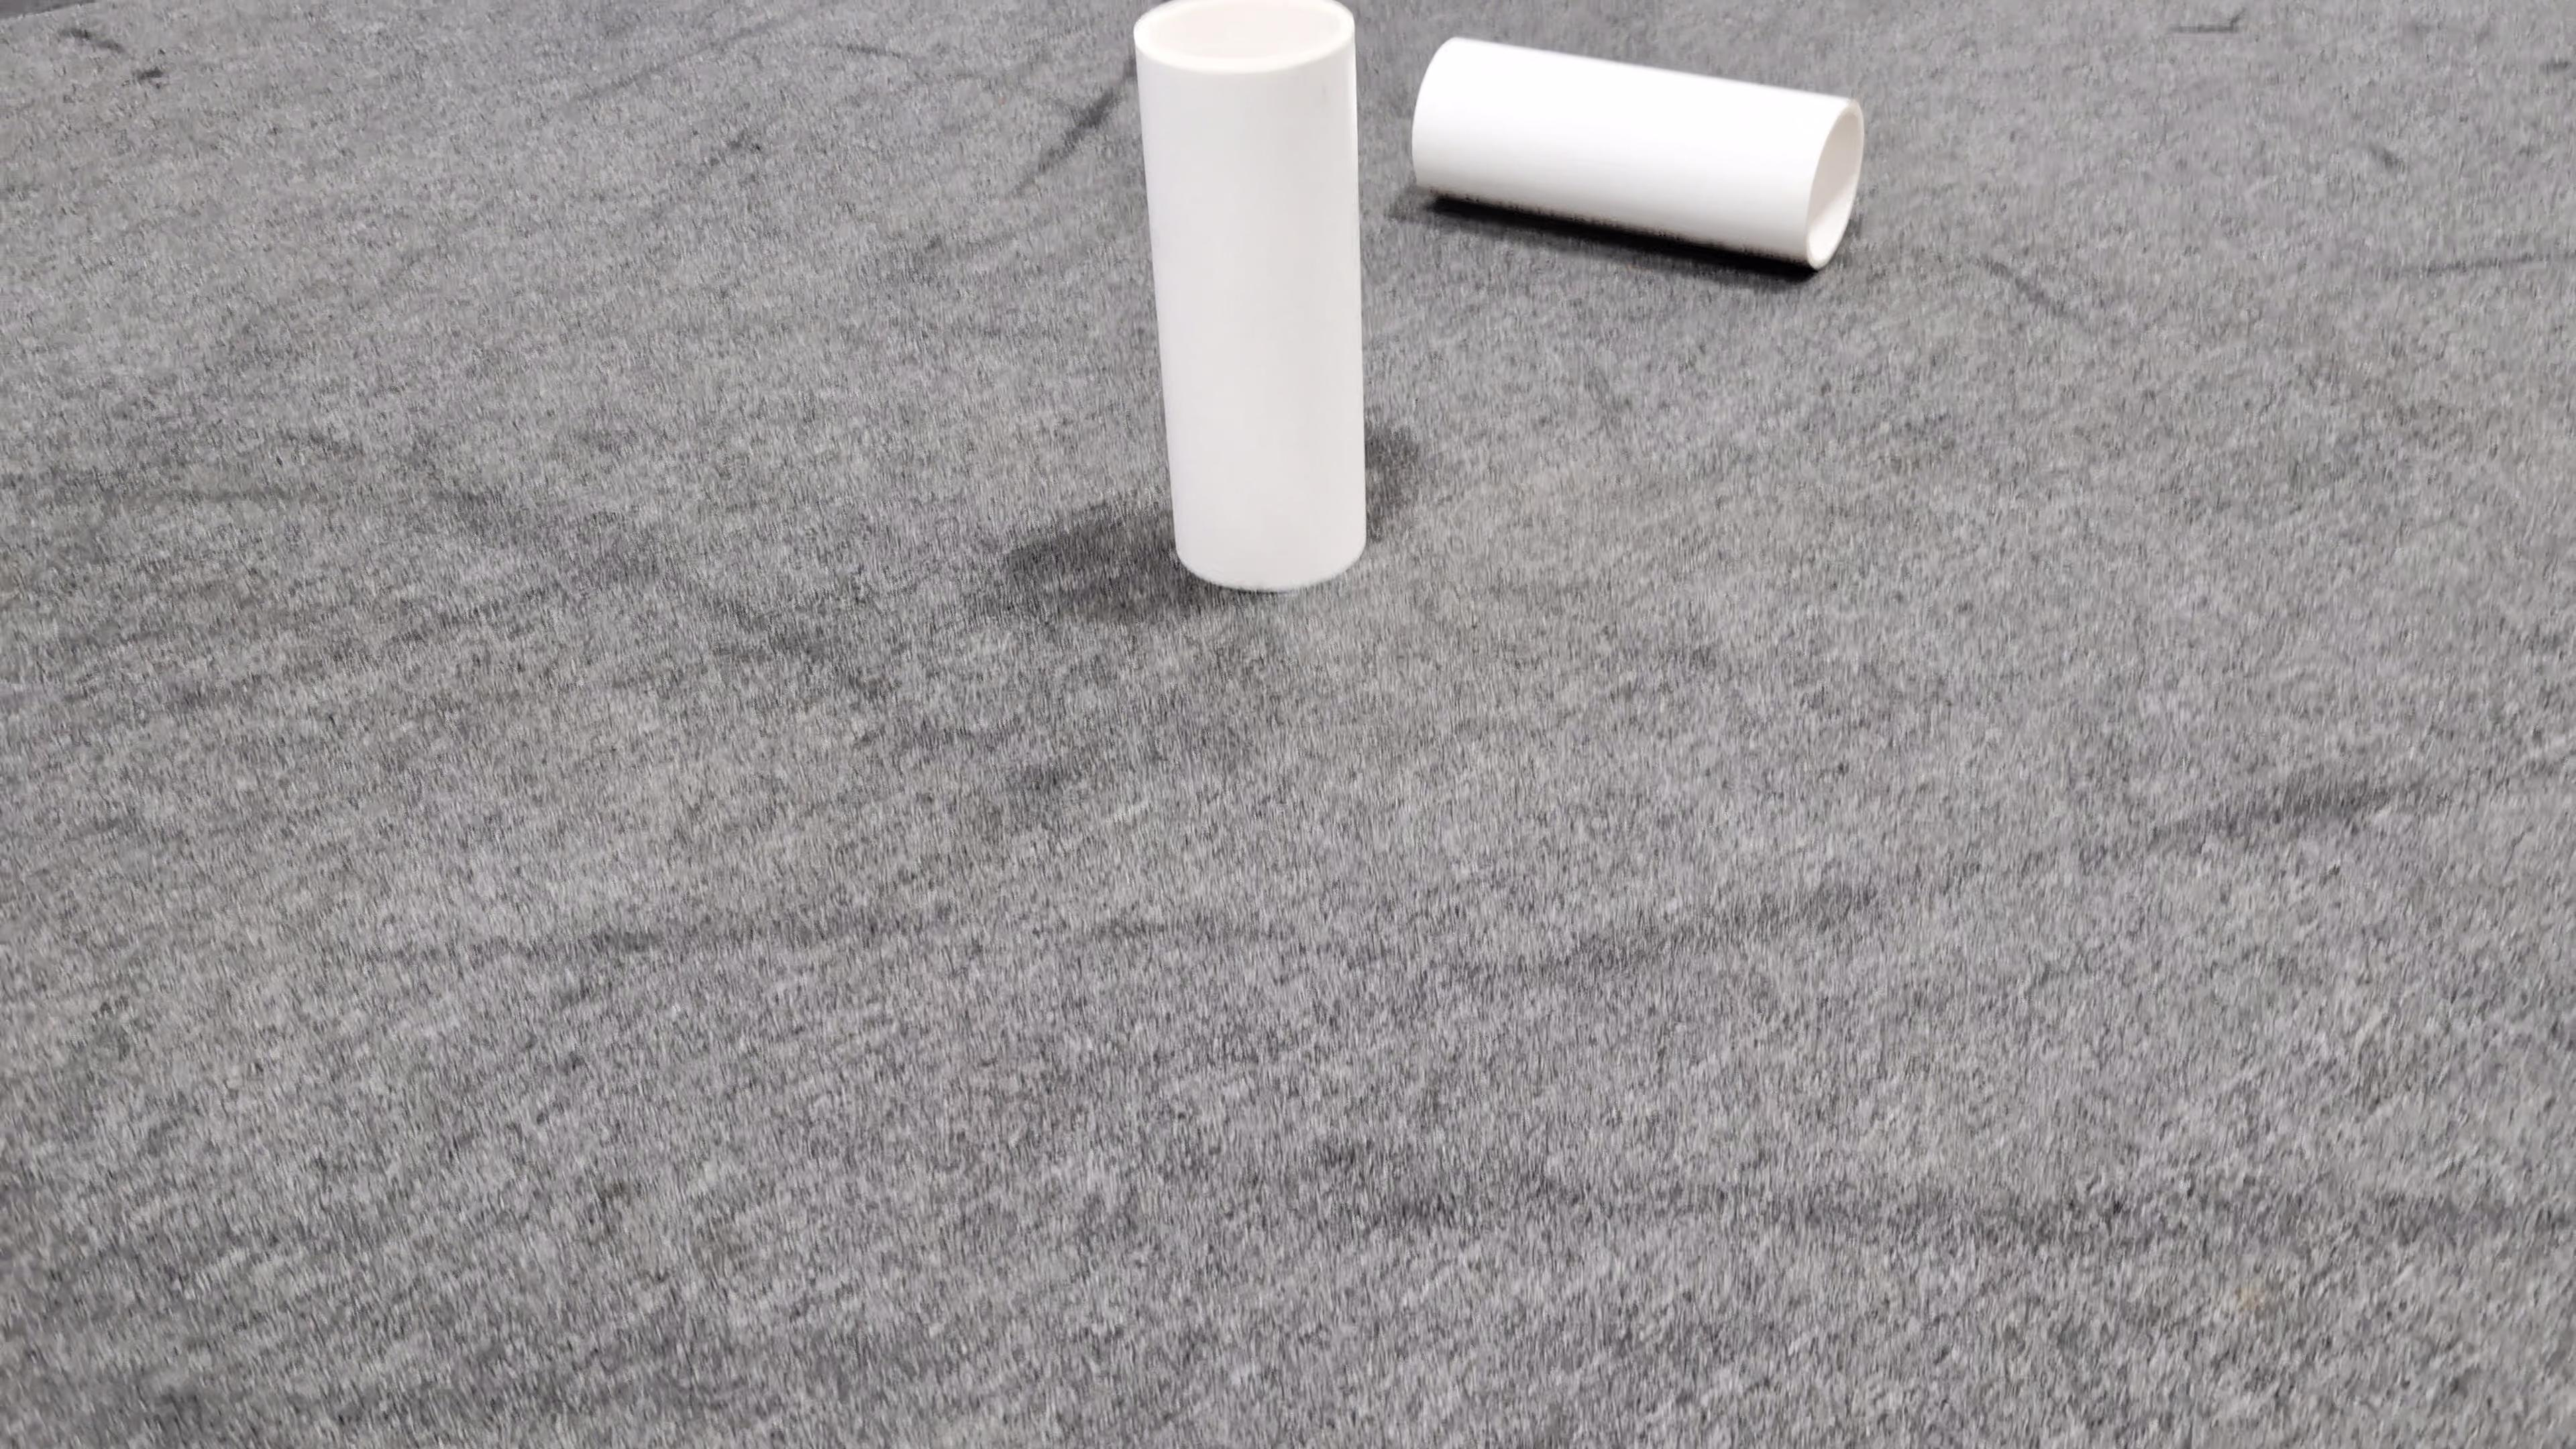coral: (1129, 4, 1368, 589), (1412, 34, 1867, 267)
